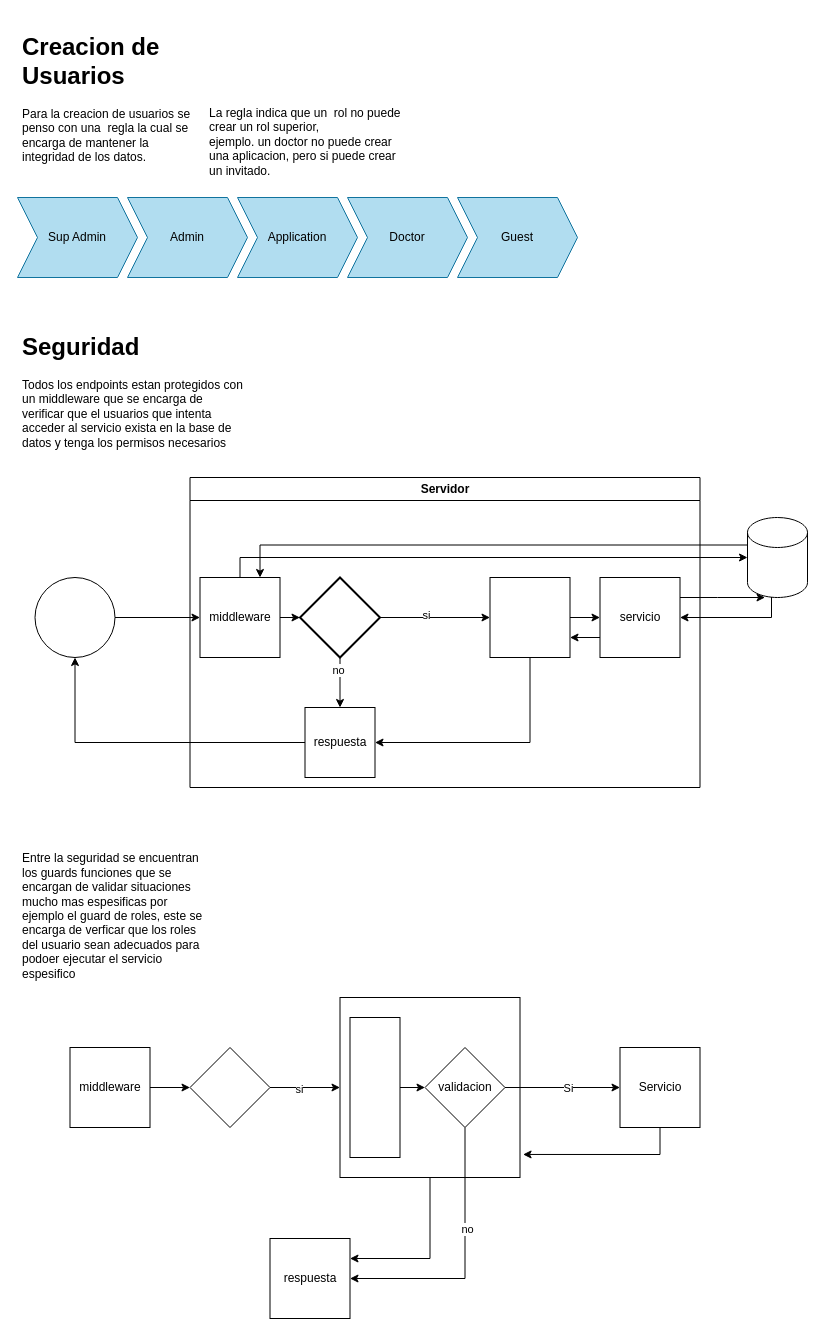
This 825x1336 diagram has some shape labels left out. Here are the shapes that lost their labels. From the top down, the centre of each, then its label:
At (777,557): "base de datos".
At (74,617): "Peticion".
At (339,617): "autenticado".
At (529,617): "controlador".
At (229,1087): "autenticacion".
At (374,1087): "Guard Roles".
